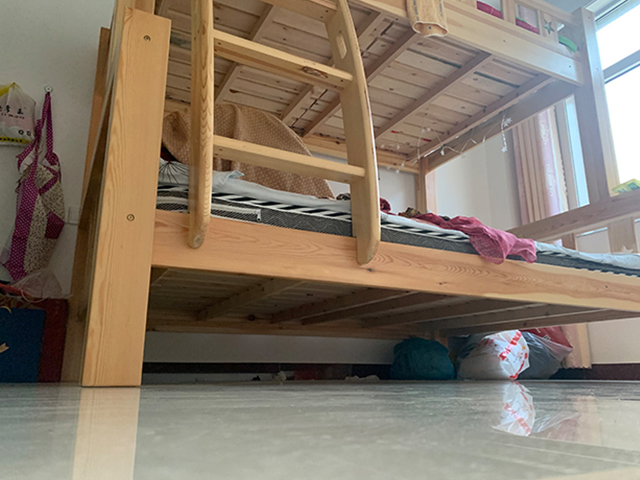bed: (60, 1, 640, 389)
curtain: (511, 105, 592, 370)
